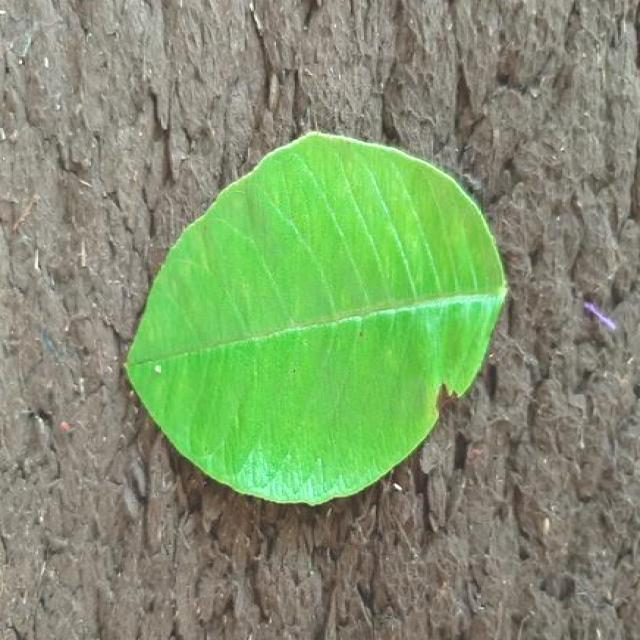leaf: (122, 129, 508, 506)
